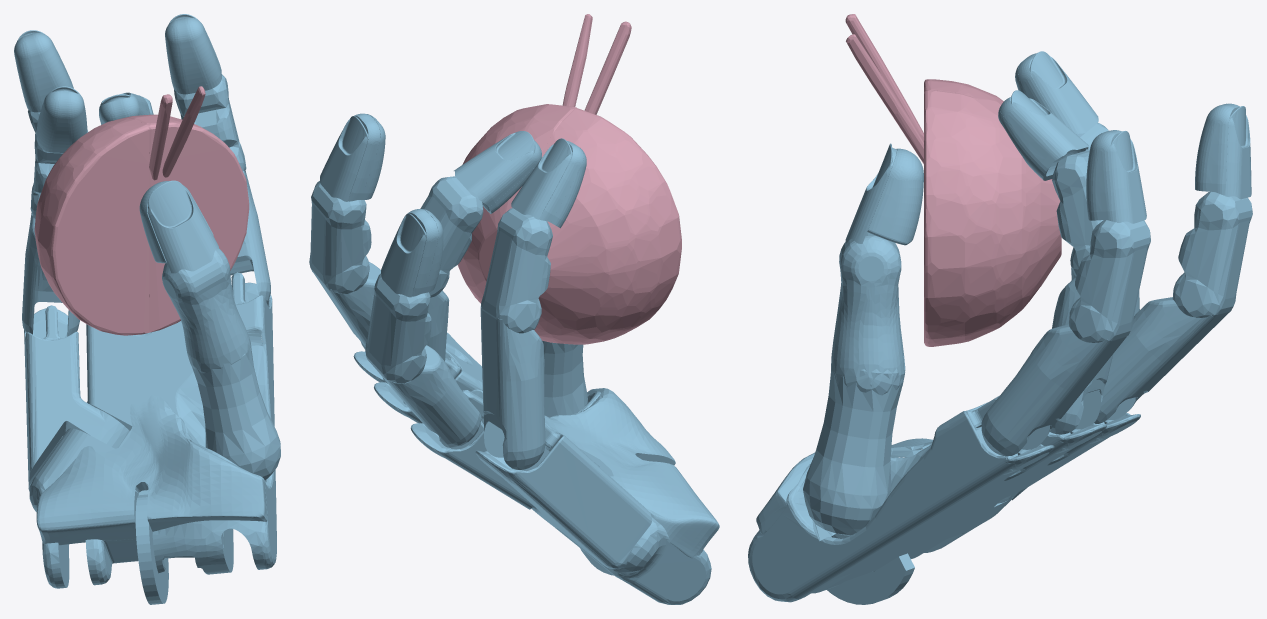
3 renders of one model, left to right at view 1: azimuth 30°, elevation 25°; view 2: azimuth 150°, elevation 25°; view 3: azimuth 270°, elevation 25°, orthographic. The views are drawn at different scales.
Parts seen in each view (by area): view 1: hand_isaac_q, world; view 2: hand_isaac_q, world; view 3: hand_isaac_q, world.
Part boxes in pixels (<box>): hand_isaac_q: <box>14,14,280,604</box>; world: <box>34,86,249,335</box>; hand_isaac_q: <box>309,113,719,604</box>; world: <box>458,14,681,344</box>; hand_isaac_q: <box>748,51,1252,604</box>; world: <box>845,14,1061,346</box>.
Bounding box in the file's own units: 0.1146 × 0.1905 × 0.1475.
